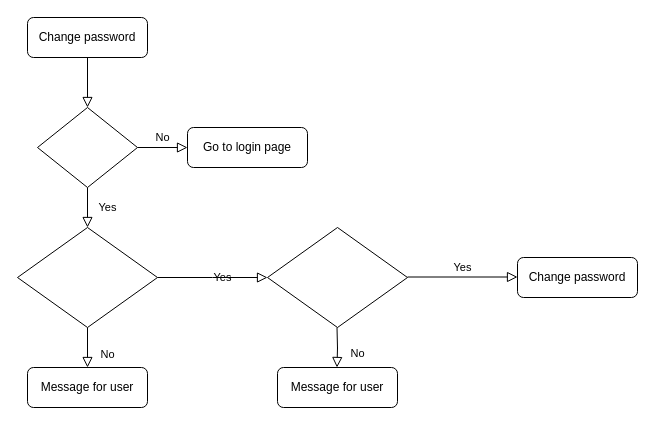
The diagram is 655 pixels wide and 425 high, and some of its shapes have lost their labels. The shapes that lost their labels are listed below. From the top down, each one's centre as x and y in pixels, then its label:
At (x=87, y=147): "Is auth user ?".
At (x=87, y=277): "Is new password correctly ?".
At (x=337, y=277): "Is old password correctly ?".
